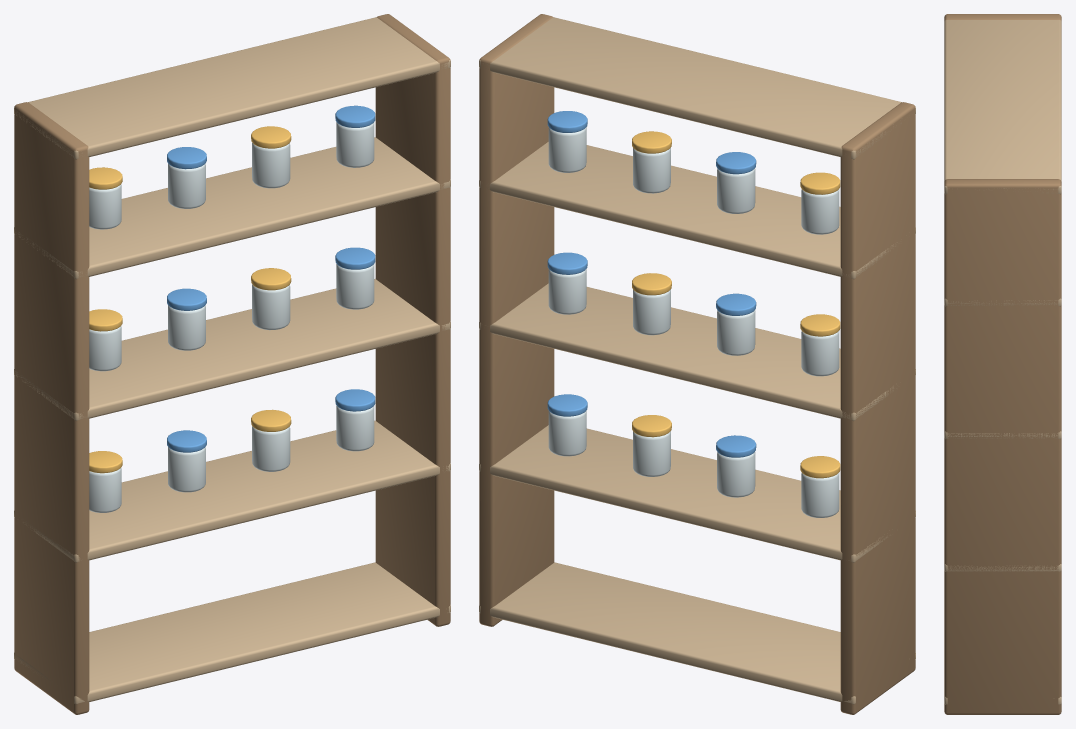
File: Polka.fbx
3 views of the same model, side by side, from view 1: azimuth 30°, elevation 25°; view 2: azimuth 150°, elevation 25°; view 3: azimuth 270°, elevation 25° (orthographic). The views are drawn at different scales.
Parts seen in each view (by area): view 1: Polka_Korpus, Polka_Sloik_8, Polka_Sloik_12, Polka_Sloik_4, Polka_Sloik_11, Polka_Sloik_7, Polka_Sloik_3, Polka_Sloik_2, Polka_Sloik_6, Polka_Sloik_10, Polka_Sloik_5, Polka_Sloik_9 (+1 smaller); view 2: Polka_Korpus, Polka_Sloik_9, Polka_Sloik_5, Polka_Sloik_4, Polka_Sloik_8, Polka_Sloik_2, Polka_Sloik_6, Polka_Sloik_12, Polka_Sloik_1, Polka_Sloik_10, Polka_Sloik_11, Polka_Sloik_7 (+1 smaller); view 3: Polka_Korpus.
Boxes of the visible parts, left/top/right/bottom form: Polka_Korpus: left=14, top=14, right=450, bottom=714; Polka_Sloik_8: left=335, top=247, right=375, bottom=309; Polka_Sloik_12: left=335, top=105, right=375, bottom=167; Polka_Sloik_4: left=335, top=389, right=375, bottom=451; Polka_Sloik_11: left=251, top=126, right=291, bottom=188; Polka_Sloik_7: left=251, top=268, right=291, bottom=330; Polka_Sloik_3: left=251, top=409, right=291, bottom=471; Polka_Sloik_2: left=167, top=430, right=206, bottom=492; Polka_Sloik_6: left=167, top=288, right=206, bottom=350; Polka_Sloik_10: left=167, top=147, right=206, bottom=208; Polka_Sloik_5: left=89, top=309, right=122, bottom=371; Polka_Sloik_9: left=89, top=167, right=122, bottom=229; Polka_Korpus: left=479, top=14, right=915, bottom=714; Polka_Sloik_9: left=800, top=172, right=840, bottom=234; Polka_Sloik_5: left=800, top=314, right=840, bottom=376; Polka_Sloik_4: left=547, top=394, right=587, bottom=456; Polka_Sloik_8: left=547, top=252, right=587, bottom=314; Polka_Sloik_2: left=716, top=435, right=756, bottom=497; Polka_Sloik_6: left=716, top=293, right=756, bottom=355; Polka_Sloik_12: left=547, top=111, right=587, bottom=172; Polka_Sloik_1: left=800, top=456, right=840, bottom=517; Polka_Sloik_10: left=716, top=152, right=756, bottom=213; Polka_Sloik_11: left=632, top=131, right=671, bottom=193; Polka_Sloik_7: left=632, top=273, right=671, bottom=335; Polka_Korpus: left=944, top=14, right=1061, bottom=714.
Bounding box in the file's own units: 125 × 180 × 36.
